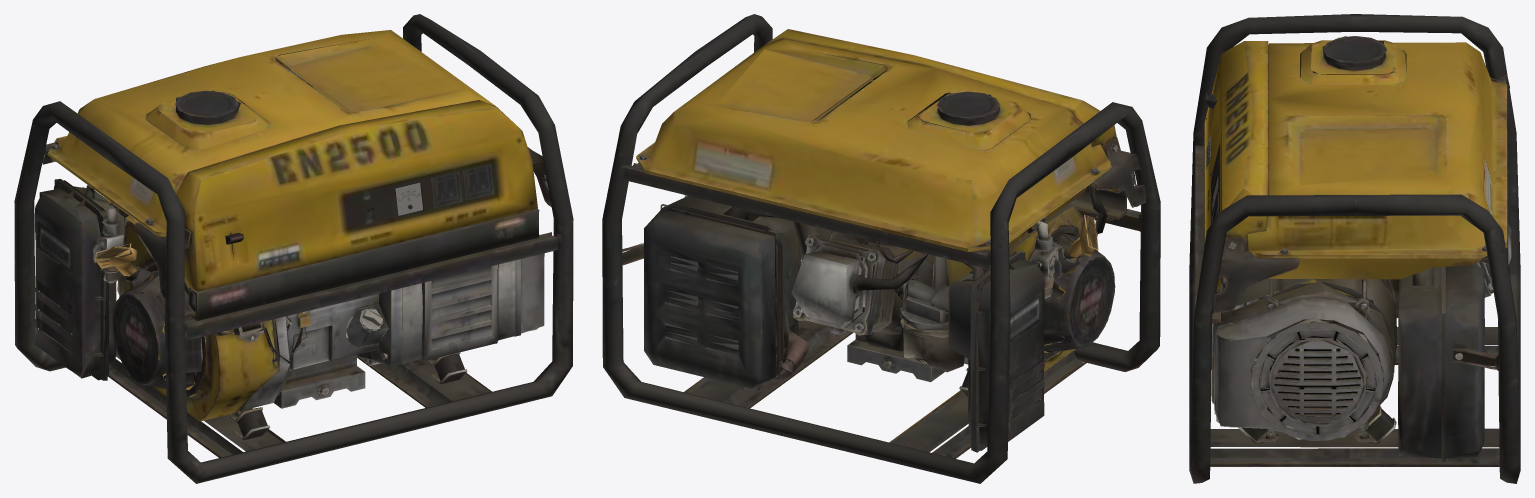
Rendered from portable_generator.glb.
3 views of the same model, side by side, from view 1: azimuth 30°, elevation 25°; view 2: azimuth 150°, elevation 25°; view 3: azimuth 270°, elevation 25° (orthographic).
Visible parts, largest first — view 1: portable_generator; view 2: portable_generator; view 3: portable_generator.
Boxes of the visible parts, <box> form: portable_generator: <box>14,14,573,483</box>; portable_generator: <box>602,14,1160,483</box>; portable_generator: <box>1189,14,1520,483</box>.
Size of the model in its own units: 0.8164 by 0.5768 by 0.564.
Materials: 2 (2 with a texture image).
